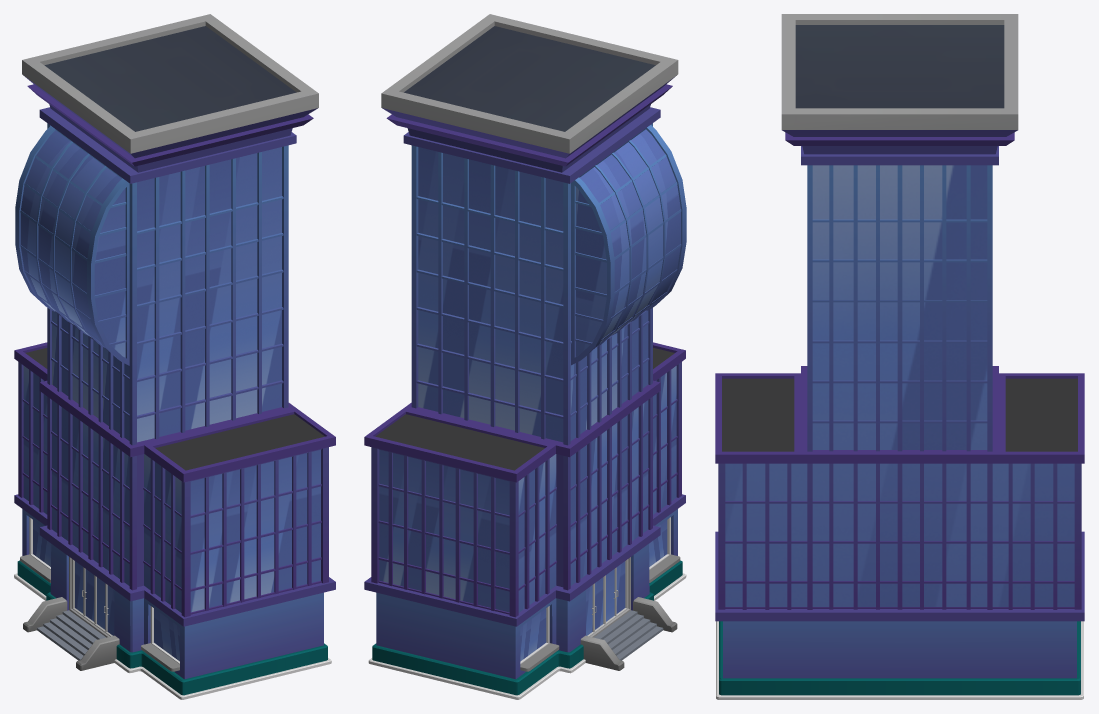
Rendered from Building_15_B.glb.
The picture shows the model from 3 angles, left to right: view 1: azimuth 30°, elevation 25°; view 2: azimuth 150°, elevation 25°; view 3: azimuth 270°, elevation 25°; orthographic projection. The views are drawn at different scales.
Parts seen in each view (by area): view 1: Building_15_B; view 2: Building_15_B; view 3: Building_15_B.
Boxes of the visible parts, <box> form: Building_15_B: <box>14,14,335,699</box>; Building_15_B: <box>364,14,686,699</box>; Building_15_B: <box>715,14,1084,699</box>.
Size of the model in its own units: 8.6 by 21 by 11.83.
4 materials, 4 textured.
